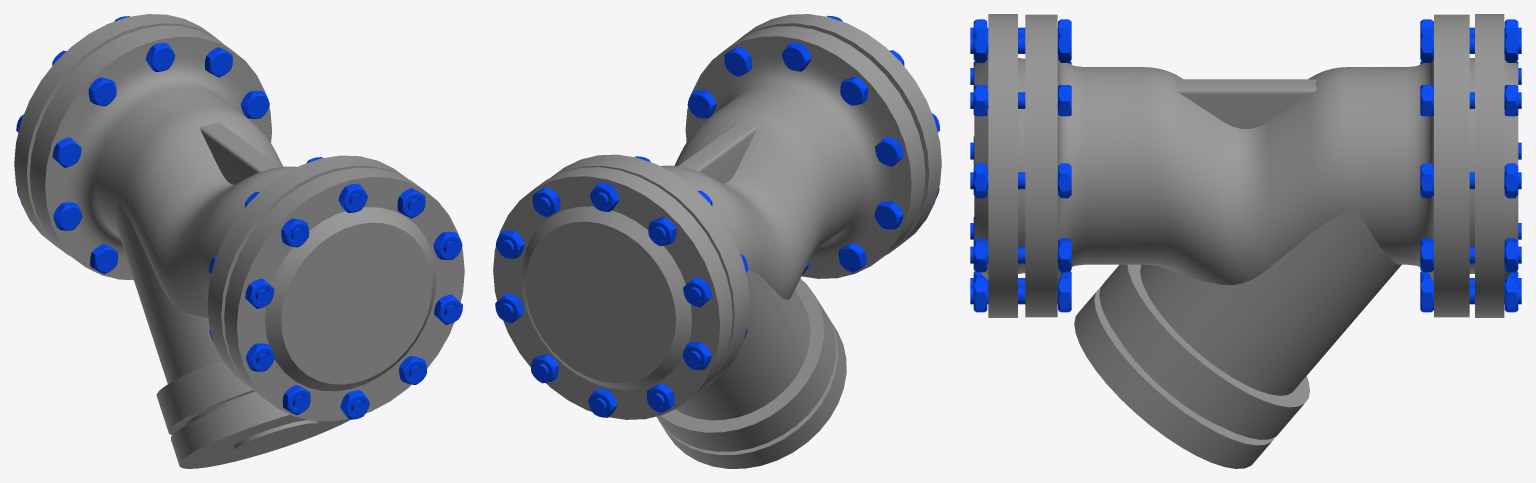
File: T_Valve.fbx
The picture shows the model from 3 angles, left to right: view 1: azimuth 30°, elevation 25°; view 2: azimuth 150°, elevation 25°; view 3: azimuth 270°, elevation 25°; orthographic projection. The views are drawn at different scales.
Parts seen in each view (by area): view 1: Object027; view 2: Object027; view 3: Object027.
Boxes of the visible parts, x1,y1,x2,y2 form: Object027: (14,14,464,468); Object027: (493,14,941,468); Object027: (970,14,1521,468).
Bounding box in the file's own units: 66.28 × 102 × 120.
